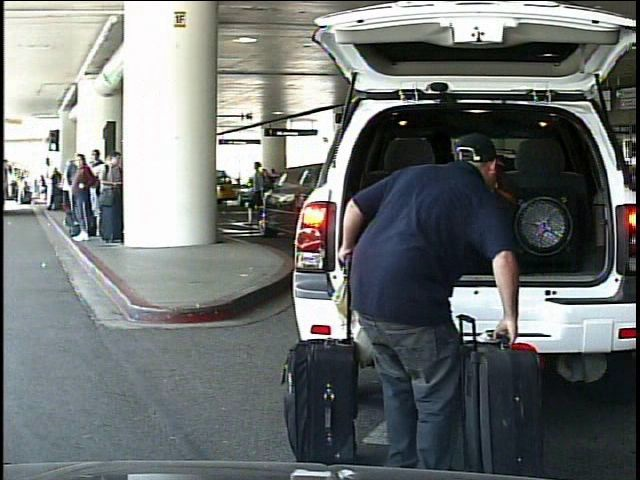person: (325, 114, 557, 480), (250, 160, 273, 226), (18, 176, 28, 207), (39, 174, 50, 202)
